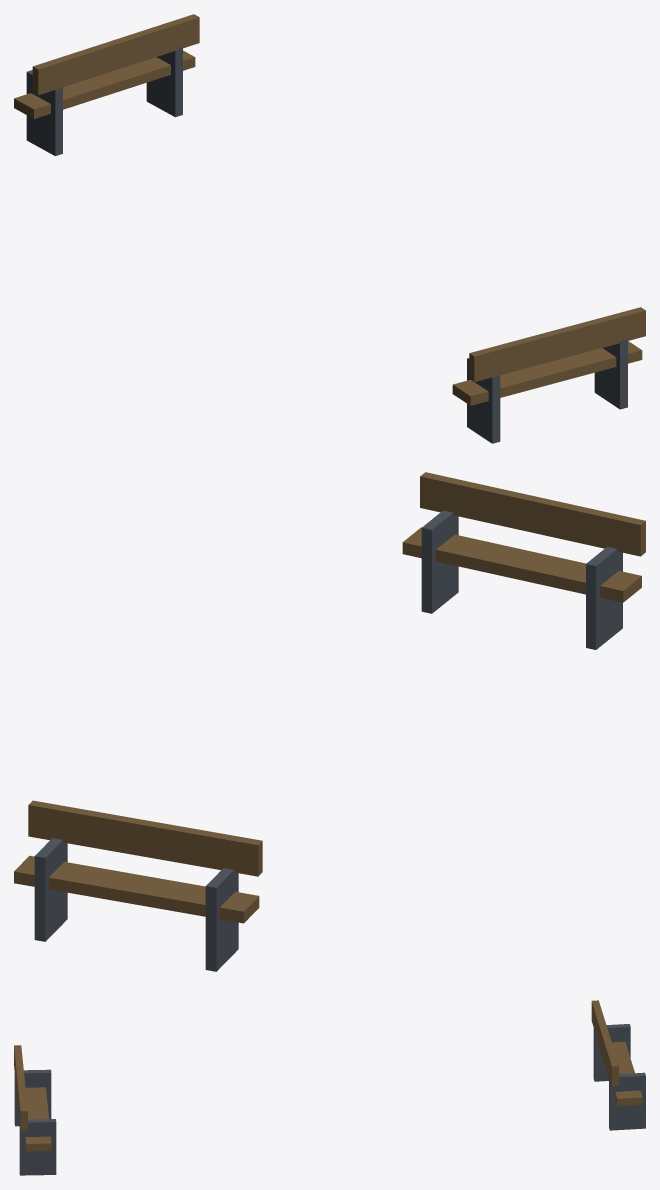
The model's file is cell-0_630.glb.
The picture shows the model from 3 angles, top to bottom: view 1: azimuth 30°, elevation 25°; view 2: azimuth 150°, elevation 25°; view 3: azimuth 270°, elevation 25°; orthographic projection. The views are drawn at different scales.
Parts seen in each view (by area): view 1: cell-0_630; view 2: cell-0_630; view 3: cell-0_630.
Boxes of the visible parts, x1,y1,x2,y2 form: cell-0_630: [14, 14, 645, 443]; cell-0_630: [14, 472, 645, 971]; cell-0_630: [14, 1000, 645, 1175].
Bounding box in the file's own units: 1.18 × 0.5596 × 3.47.
